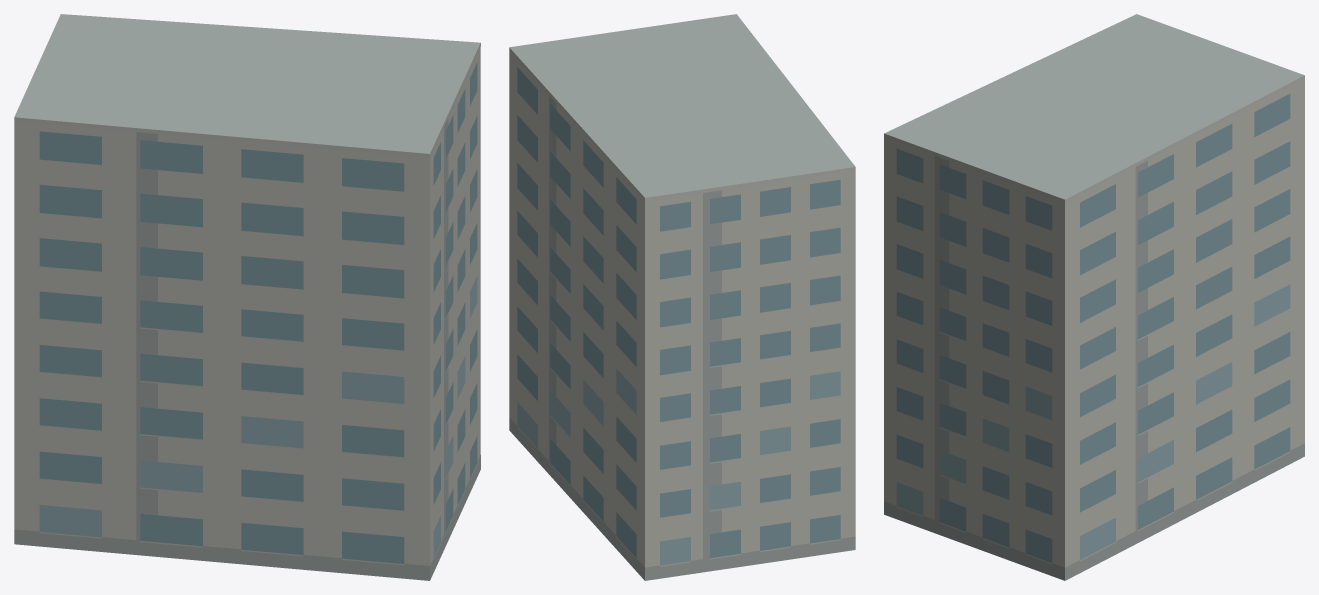
Rendered from survey-upis-32526012.glb.
3 renders of one model, left to right at view 1: azimuth 30°, elevation 25°; view 2: azimuth 150°, elevation 25°; view 3: azimuth 270°, elevation 25°, orthographic. The views are drawn at different scales.
Parts seen in each view (by area): view 1: survey-upis-32526012.tmp; view 2: survey-upis-32526012.tmp; view 3: survey-upis-32526012.tmp.
Boxes of the visible parts, left/top/right/bottom form: survey-upis-32526012.tmp: left=14, top=14, right=480, bottom=580; survey-upis-32526012.tmp: left=509, top=14, right=855, bottom=580; survey-upis-32526012.tmp: left=884, top=14, right=1304, bottom=580.
Bounding box in the file's own units: 26.72 × 25.56 × 25.58.
